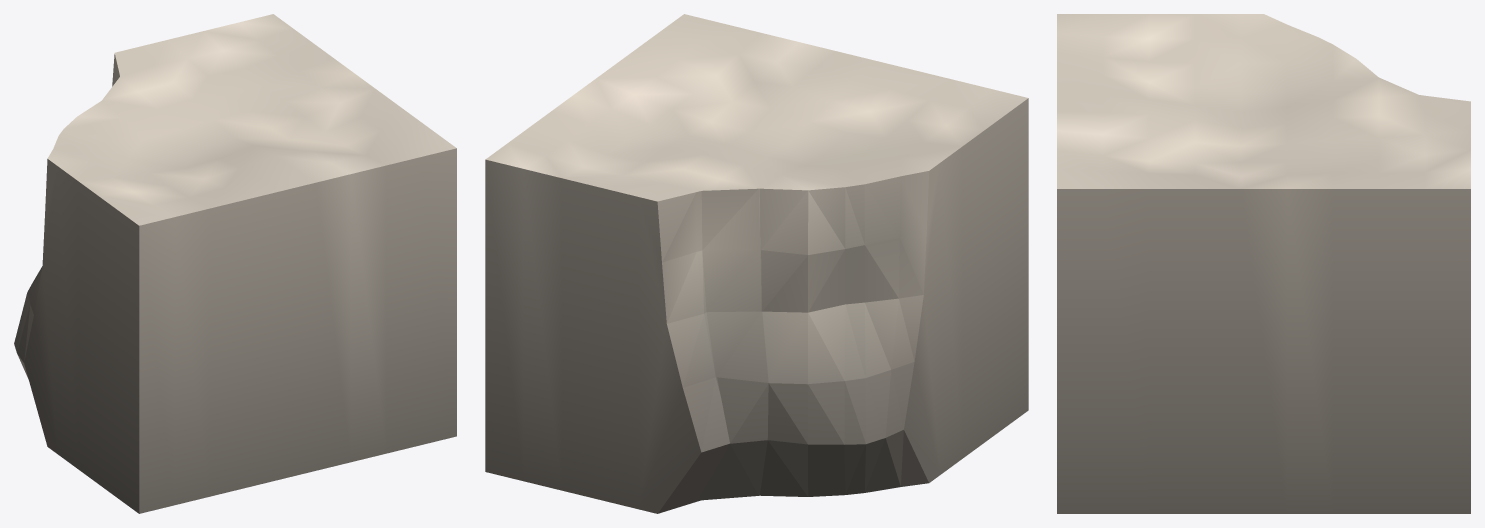
The model's file is SM_VKI_Rock_Cave_CCCO_A.fbx.
The picture shows the model from 3 angles, left to right: view 1: azimuth 30°, elevation 25°; view 2: azimuth 150°, elevation 25°; view 3: azimuth 270°, elevation 25°; orthographic projection. The views are drawn at different scales.
Parts seen in each view (by area): view 1: SM_VKI_Rock_Cave_CCCO_A.001; view 2: SM_VKI_Rock_Cave_CCCO_A.001; view 3: SM_VKI_Rock_Cave_CCCO_A.001.
Part boxes in pixels (box(x1,y1,x2,y2)): SM_VKI_Rock_Cave_CCCO_A.001: box(14, 14, 456, 513); SM_VKI_Rock_Cave_CCCO_A.001: box(485, 14, 1028, 513); SM_VKI_Rock_Cave_CCCO_A.001: box(1057, 14, 1470, 513).
Bounding box in the file's own units: 1.5 × 1.3 × 1.5.
